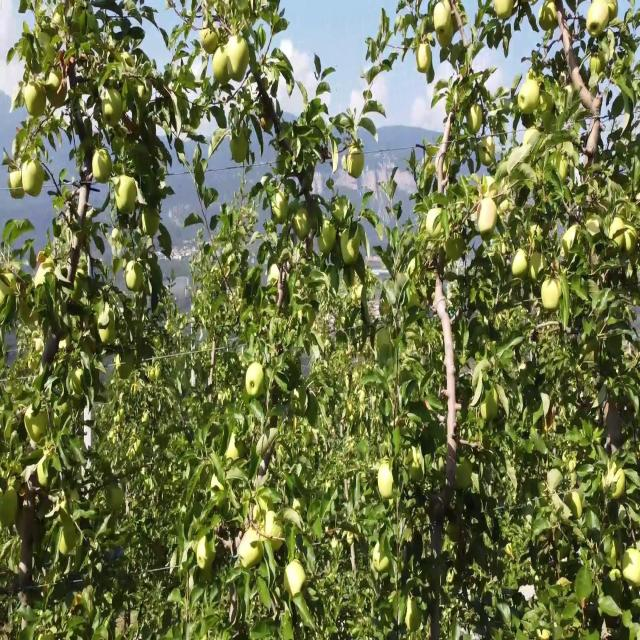apple: (228, 35, 251, 85), (284, 561, 308, 603), (116, 177, 139, 217), (240, 533, 264, 569), (340, 227, 361, 267), (264, 511, 284, 553), (212, 49, 231, 91), (24, 163, 46, 199), (480, 199, 498, 242), (92, 149, 113, 185), (104, 92, 125, 128), (28, 85, 48, 121), (196, 533, 215, 569), (588, 7, 608, 41), (272, 191, 291, 226), (520, 78, 538, 114), (48, 78, 68, 110), (248, 362, 265, 398), (544, 277, 561, 313), (200, 28, 221, 57), (444, 234, 465, 263), (624, 547, 640, 585), (4, 490, 19, 530), (128, 263, 146, 295), (232, 135, 251, 164), (320, 220, 336, 254), (512, 248, 528, 281), (608, 220, 625, 251), (540, 7, 559, 34), (144, 206, 160, 238), (296, 206, 310, 242), (416, 42, 432, 73), (60, 49, 76, 80), (348, 149, 365, 178), (8, 170, 25, 199), (108, 483, 125, 512), (484, 391, 500, 421), (564, 227, 578, 261), (380, 462, 393, 498), (612, 469, 627, 500), (468, 106, 484, 135), (260, 106, 276, 135), (624, 227, 640, 256), (456, 462, 472, 491), (528, 255, 544, 283), (480, 142, 496, 169), (428, 213, 444, 240), (440, 21, 455, 48), (496, 0, 515, 21), (308, 206, 321, 235), (232, 433, 245, 462), (436, 7, 452, 30), (84, 135, 97, 162), (452, 7, 467, 30), (488, 28, 503, 50), (448, 519, 461, 544), (608, 0, 620, 27), (408, 604, 420, 631), (592, 56, 607, 76), (540, 92, 555, 112), (304, 305, 316, 327), (452, 49, 465, 68), (380, 554, 391, 576), (380, 483, 393, 500), (380, 554, 390, 576), (244, 92, 254, 114), (408, 291, 420, 309), (528, 227, 539, 245), (560, 163, 569, 183), (440, 49, 449, 64), (308, 433, 314, 448)
